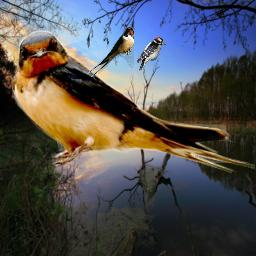Swallow: (9, 30, 255, 181), (87, 27, 134, 77)
Woodpecker: (137, 37, 167, 71)
